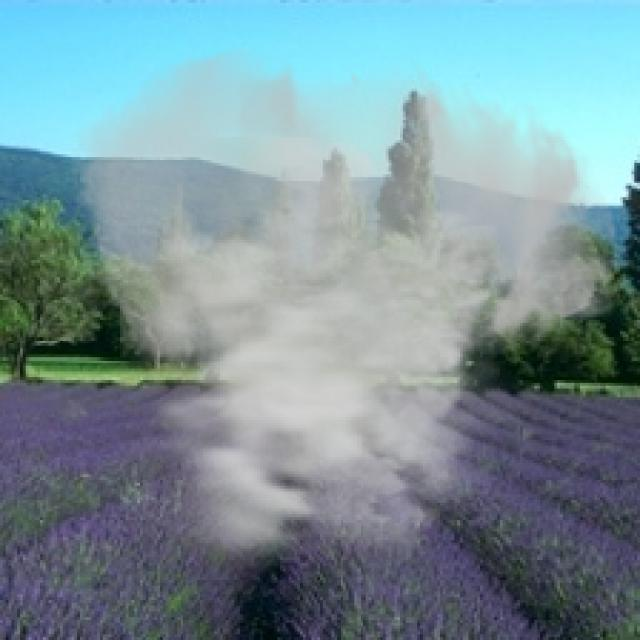smoke: (66, 46, 623, 591)
